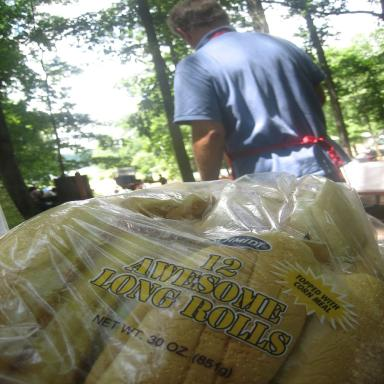plasticbag: (0, 171, 383, 383)
